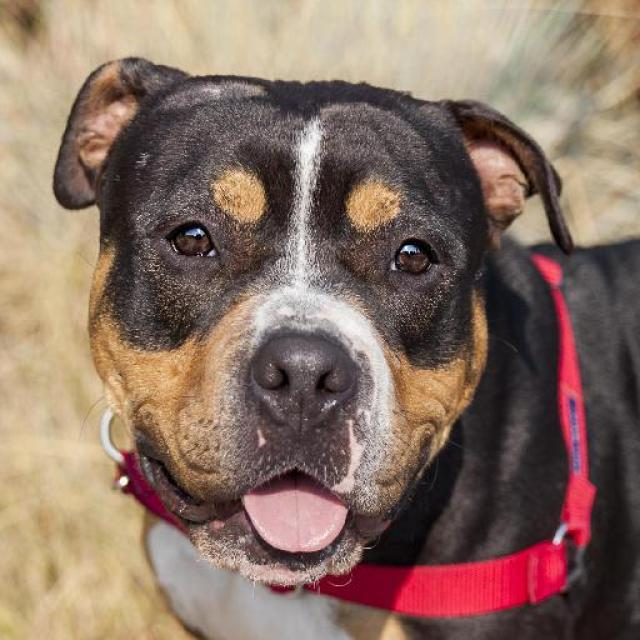adult_dog: (52, 54, 640, 640)
